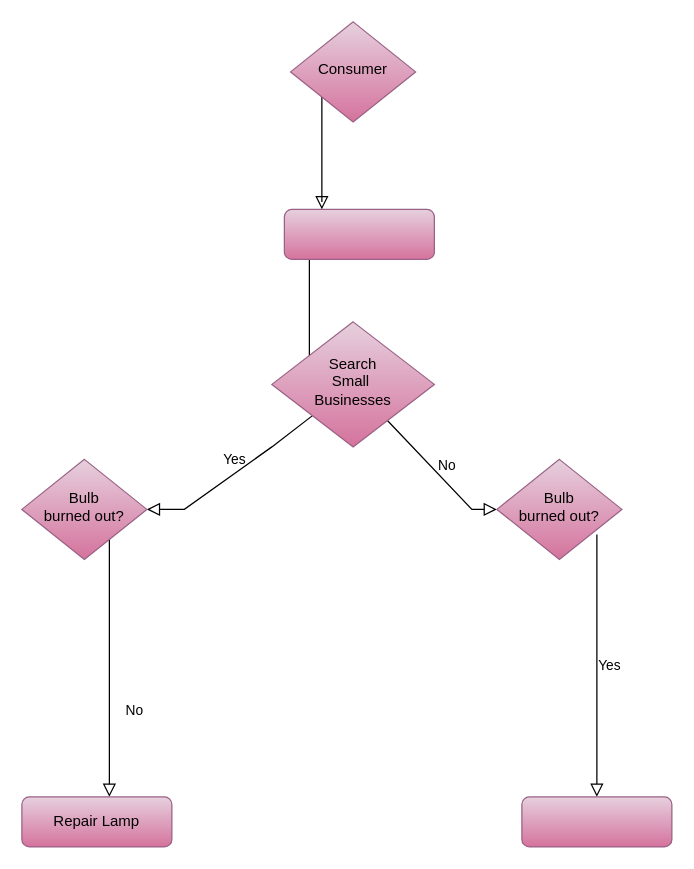
The diagram is 694 pixels wide and 869 high, and some of its shapes have lost their labels. The shapes that lost their labels are listed below. From the top down, each one's centre as x and y in pixels, then its label:
(x=358, y=233): Mom n' Pop
(x=596, y=821): Replace Bulb
